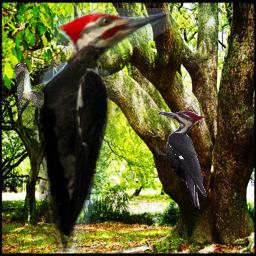Swallow: (14, 62, 44, 117)
Woodpecker: (22, 8, 177, 252), (156, 111, 207, 209)
